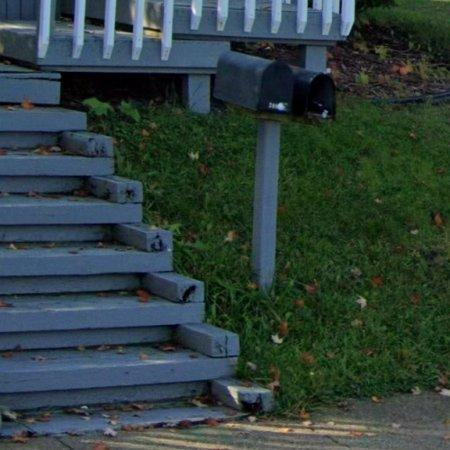stairs: (0, 63, 273, 437)
